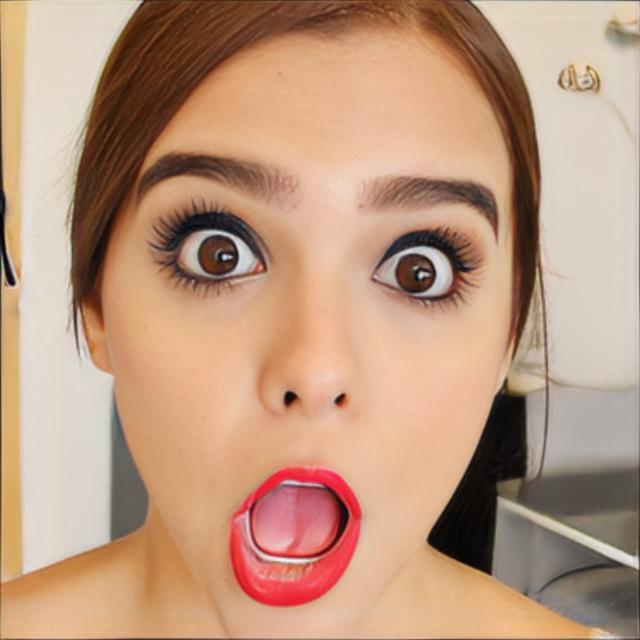surprise: (104, 16, 518, 640)
